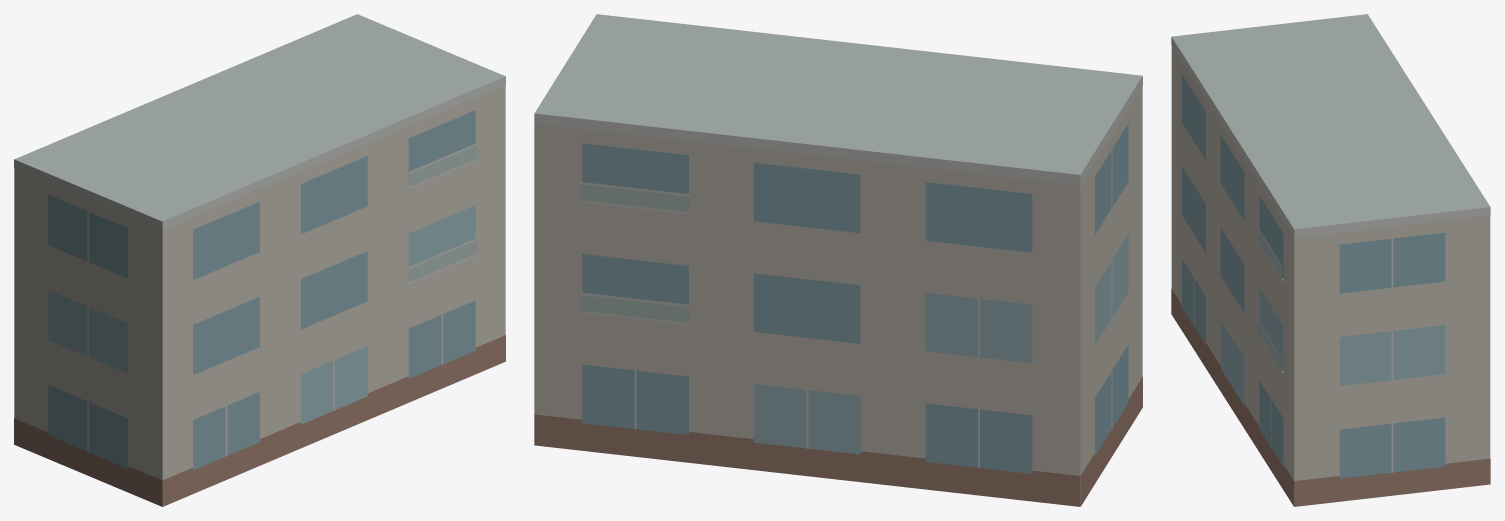
The model's file is survey-upis-32596266.glb.
The picture shows the model from 3 angles, left to right: view 1: azimuth 30°, elevation 25°; view 2: azimuth 150°, elevation 25°; view 3: azimuth 270°, elevation 25°; orthographic projection. The views are drawn at different scales.
Parts seen in each view (by area): view 1: survey-upis-32596266.tmp; view 2: survey-upis-32596266.tmp; view 3: survey-upis-32596266.tmp.
Part boxes in pixels (bbox=[...]): survey-upis-32596266.tmp: bbox=[14, 14, 505, 506]; survey-upis-32596266.tmp: bbox=[534, 14, 1142, 506]; survey-upis-32596266.tmp: bbox=[1171, 14, 1490, 506].
Bounding box in the file's own units: 13.33 × 8 × 8.35.
